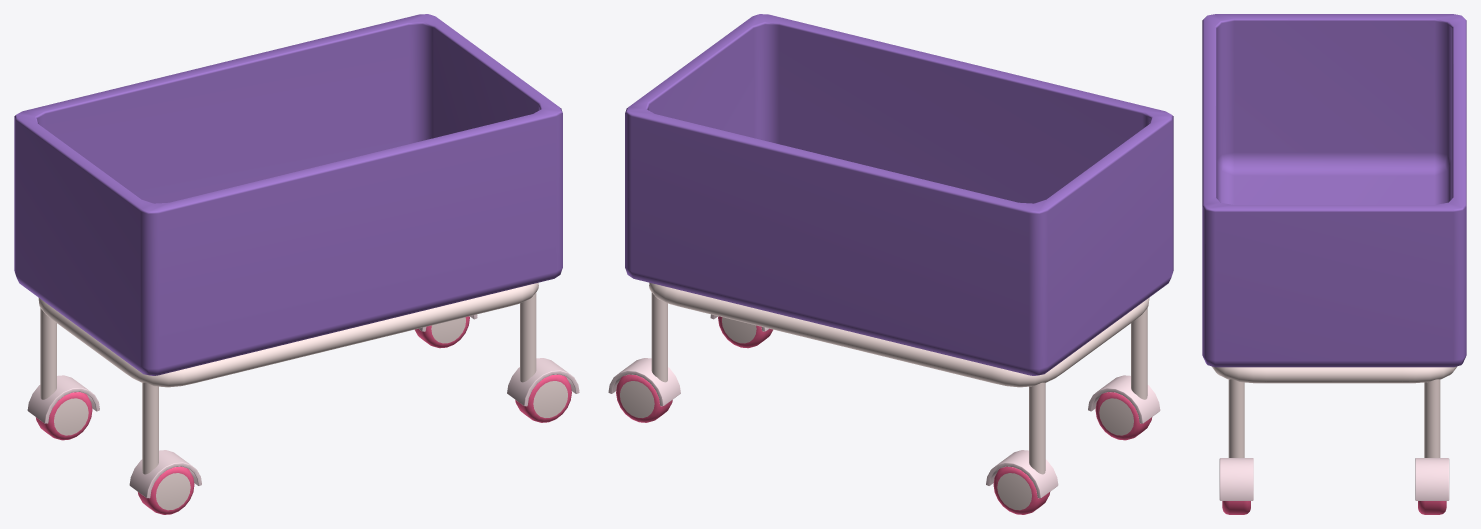
The model's file is Public_13_Cart_On_Wheels_2.glb.
3 views of the same model, side by side, from view 1: azimuth 30°, elevation 25°; view 2: azimuth 150°, elevation 25°; view 3: azimuth 270°, elevation 25° (orthographic). The views are drawn at different scales.
Visible parts, largest first — view 1: Public_13_Cart_On_Wheels_2; view 2: Public_13_Cart_On_Wheels_2; view 3: Public_13_Cart_On_Wheels_2.
Boxes of the visible parts, x1=… form: Public_13_Cart_On_Wheels_2: x1=14, y1=14, x2=579, y2=514; Public_13_Cart_On_Wheels_2: x1=608, y1=14, x2=1173, y2=514; Public_13_Cart_On_Wheels_2: x1=1202, y1=14, x2=1466, y2=514.
Size of the model in its own units: 1.83 by 1.26 by 0.9914.
Materials: 1 (1 with a texture image).
